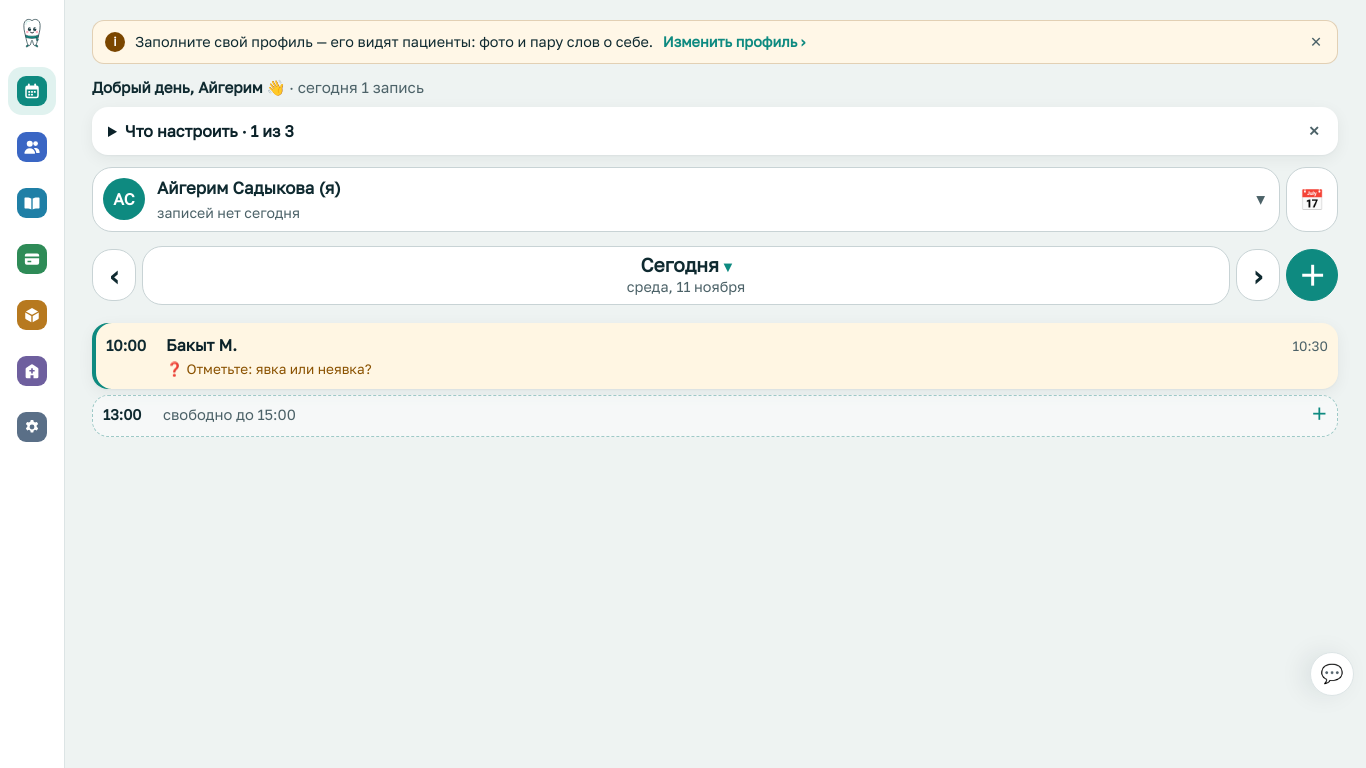
телефон в Telegram — «＋ Новая запись» кнопкой на экране
The image size is (1366, 768).
Expected: the button with aria-label "10:00–10:30, Бакыт М." is shown, left=92, top=323, right=1338, bottom=389
Click the button named "＋ Новая запись": (1312, 275) left=1286, top=249, right=1338, bottom=301
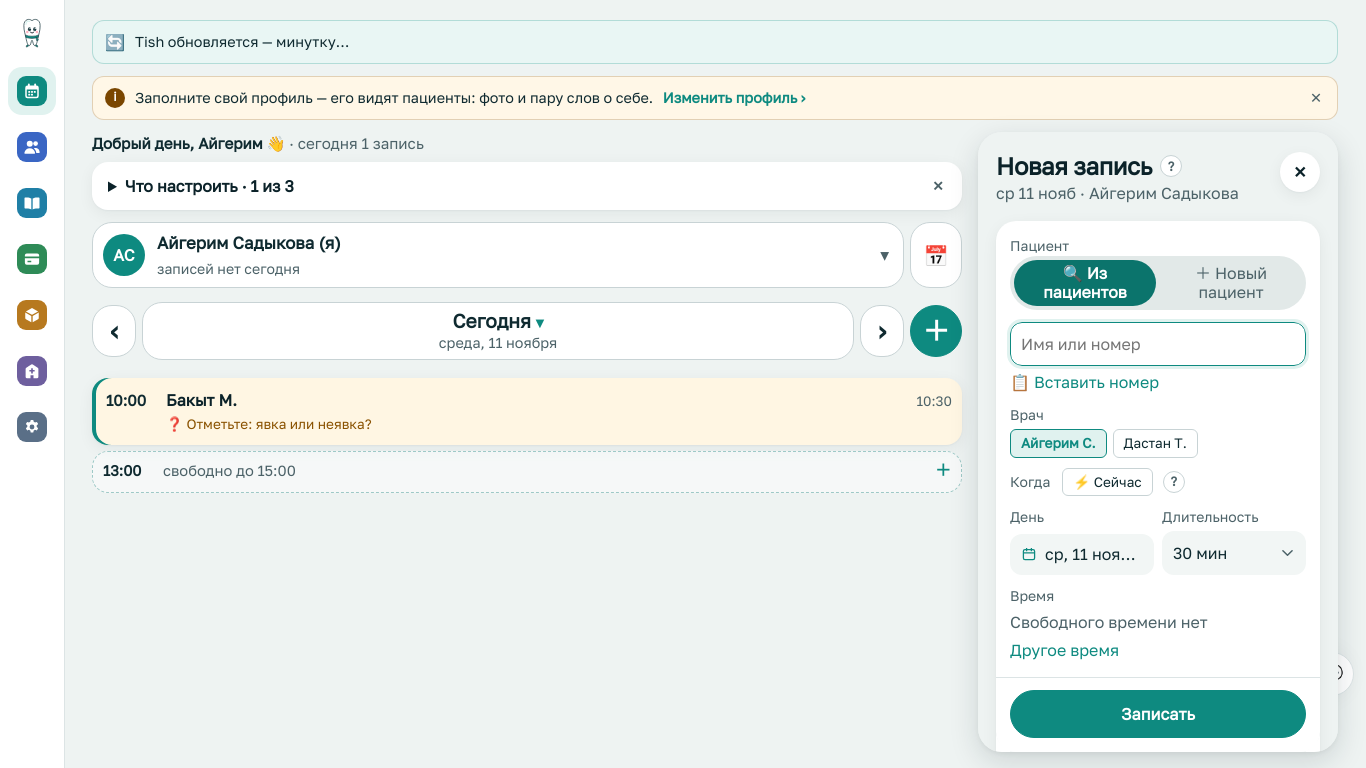
Expected: the element "Новая запись" is shown, left=978, top=132, right=1338, bottom=752
